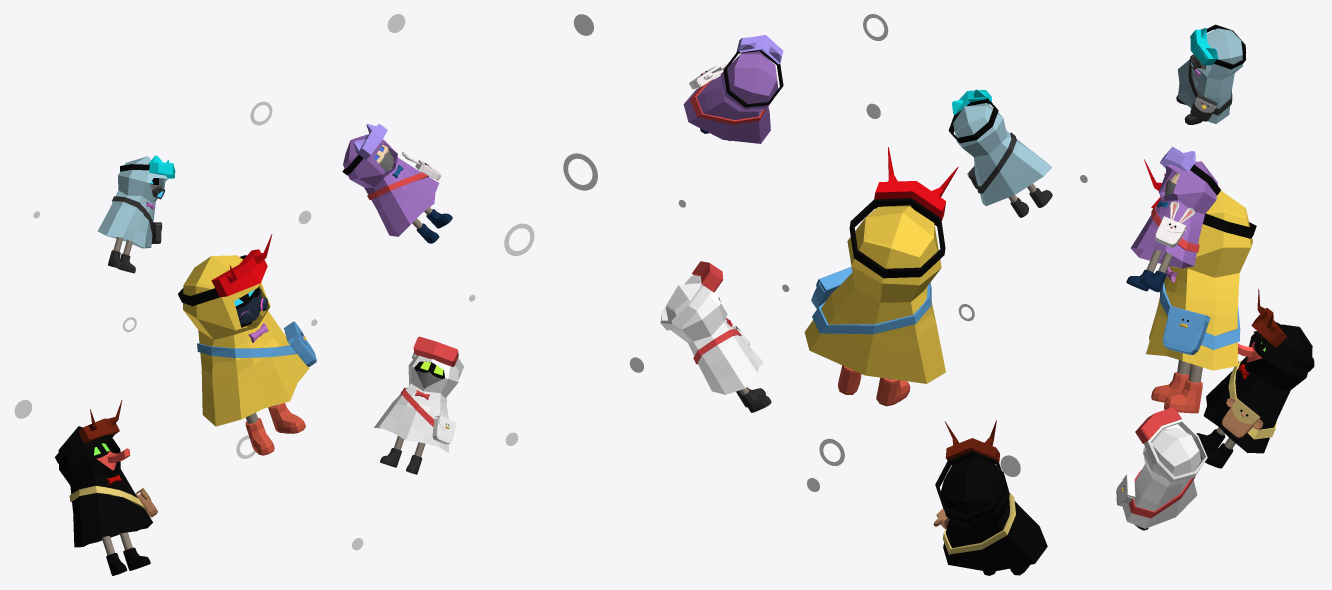
Rendered from people_GLB_v2.glb.
3 renders of one model, left to right at view 1: azimuth 30°, elevation 25°; view 2: azimuth 150°, elevation 25°; view 3: azimuth 270°, elevation 25°, orthographic. The views are drawn at different scales.
Visible parts, largest first — view 1: Body.001, Body.010, Body.008, Body, Body.012, VR02, VR02.001, Body.004, VR01.001, VR03.001, Leg L, Leg R (+1 smaller); view 2: Body.001, Body.010, Body.008, Body, Body.012, VR02, VR02.001, VR01.001, Body.004, VR03.001, VR03.002, Body.011 (+2 smaller); view 3: Body.001, Body.010, Body, Body.008, Body.012, VR01.001, 01DuckBag, VR02.001, Leg L, 04MonkeyBag.001, VR03.002, 02RabbitBag (+15 smaller).
Boxes of the visible parts, x1=… form: Body.001: x1=183, y1=255, x2=309, y2=426; Body.010: x1=58, y1=426, x2=152, y2=547; Body.008: x1=343, y1=134, x2=439, y2=236; Body: x1=374, y1=355, x2=458, y2=452; Body.012: x1=97, y1=156, x2=167, y2=248; VR02: x1=178, y1=234, x2=272, y2=306; VR02.001: x1=55, y1=400, x2=122, y2=463; Body.004: x1=197, y1=343, x2=296, y2=357; VR01.001: x1=411, y1=336, x2=463, y2=378; VR03.001: x1=342, y1=123, x2=387, y2=175; Leg L: x1=268, y1=403, x2=305, y2=433; Leg R: x1=245, y1=412, x2=274, y2=455; Body.001: x1=804, y1=205, x2=945, y2=383; Body.010: x1=941, y1=455, x2=1047, y2=572; Body.008: x1=683, y1=51, x2=778, y2=143; Body: x1=665, y1=283, x2=763, y2=394; Body.012: x1=953, y1=103, x2=1052, y2=205; VR02: x1=849, y1=147, x2=958, y2=278; VR02.001: x1=935, y1=420, x2=1006, y2=520; VR01.001: x1=660, y1=261, x2=723, y2=330; Body.004: x1=812, y1=282, x2=931, y2=334; VR03.001: x1=723, y1=34, x2=783, y2=107; VR03.002: x1=948, y1=89, x2=998, y2=143; Body.011: x1=942, y1=493, x2=1015, y2=554; Body.001: x1=1146, y1=191, x2=1252, y2=370; Body.010: x1=1203, y1=324, x2=1312, y2=453; Body: x1=1122, y1=427, x2=1201, y2=528; Body.008: x1=1130, y1=161, x2=1217, y2=268; Body.012: x1=1177, y1=28, x2=1242, y2=123; VR01.001: x1=1135, y1=407, x2=1207, y2=481; 01DuckBag: x1=1162, y1=306, x2=1210, y2=354; VR02.001: x1=1251, y1=288, x2=1314, y2=371; Leg L: x1=1164, y1=364, x2=1202, y2=413; 04MonkeyBag.001: x1=1222, y1=397, x2=1263, y2=437; VR03.002: x1=1190, y1=24, x2=1245, y2=69; 02RabbitBag: x1=1155, y1=201, x2=1195, y2=247.
Size of the model in its own units: 17.28 by 15.55 by 5.82.
